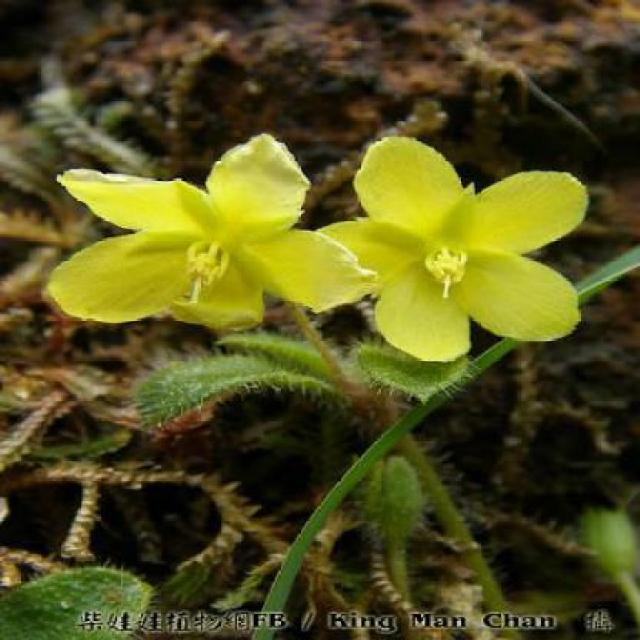flower: (274, 142, 597, 364), (43, 138, 360, 338)
